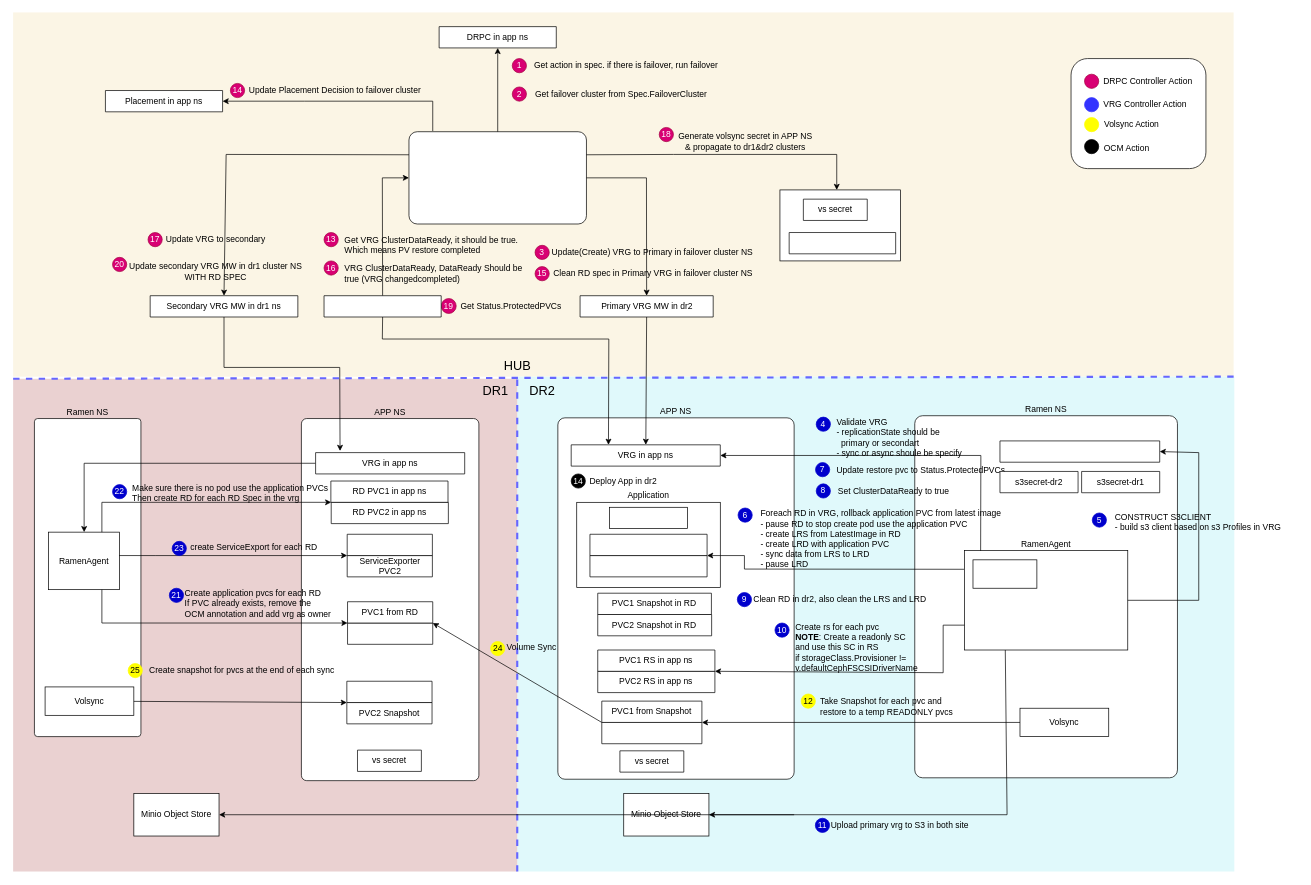
The diagram is 1311 pixels wide and 885 high, and some of its shapes have lost their labels. Here are the shapes that lost their labels. From the top down, the centre of each, then its label:
At (497,177): "DRPC Controller".
At (842,243): "vs secret policy".
At (382,306): "VRG MCV in dr2 ns".
At (1079,451): "Configmap: ramen-dr-cluster-operator-config".
At (648,518): "Deployment".
At (389,545): "ServiceExporter PVC1".
At (648,545): "Application PVC1 rollback from RD".
At (648,566): "Application PVC2 rollback from RD".
At (1004,573): "S3 Client".
At (390,633): "PVC2 from RD".
At (389,692): "PVC1 Snapshot".
At (651,733): "PVC2 from Snapshot".
